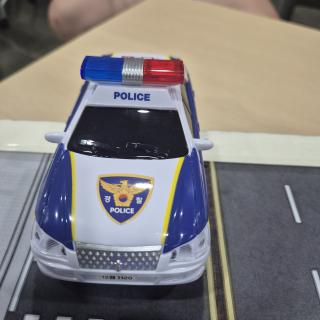Police_car: (31, 54, 213, 285)
